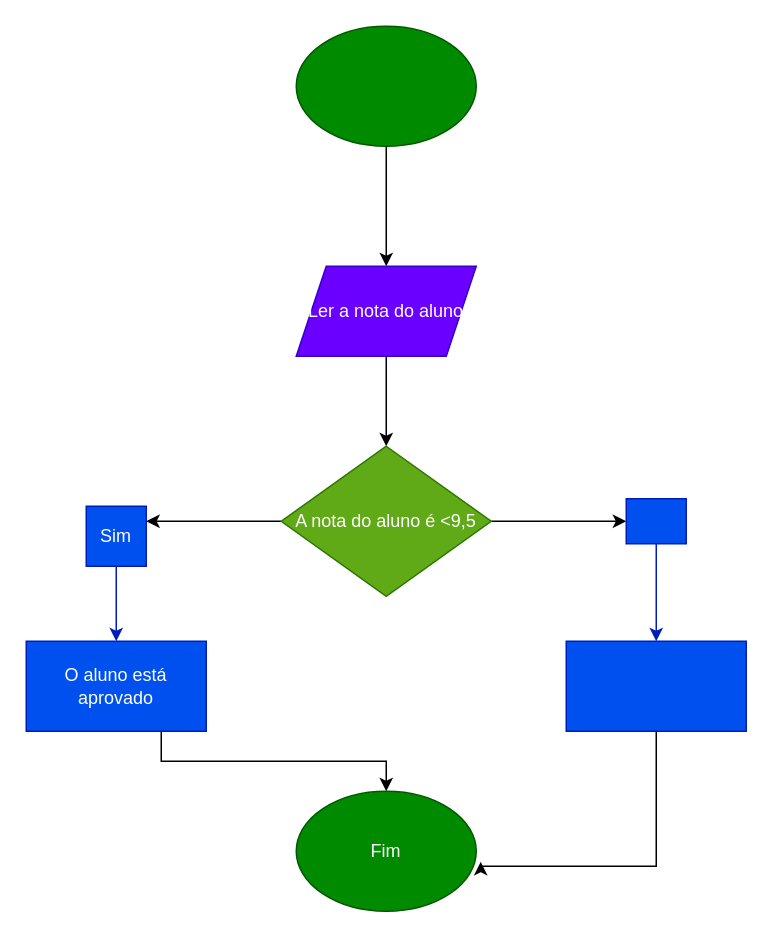
This 773x938 diagram has some shape labels left out. The shapes that lost their labels are listed below. From the top down, each one's box as (x1, y1, x2, y2) in pixels, then its label:
(295, 25, 476, 146): Início
(625, 497, 686, 544): Não
(565, 640, 746, 731): O aluno está re provado
